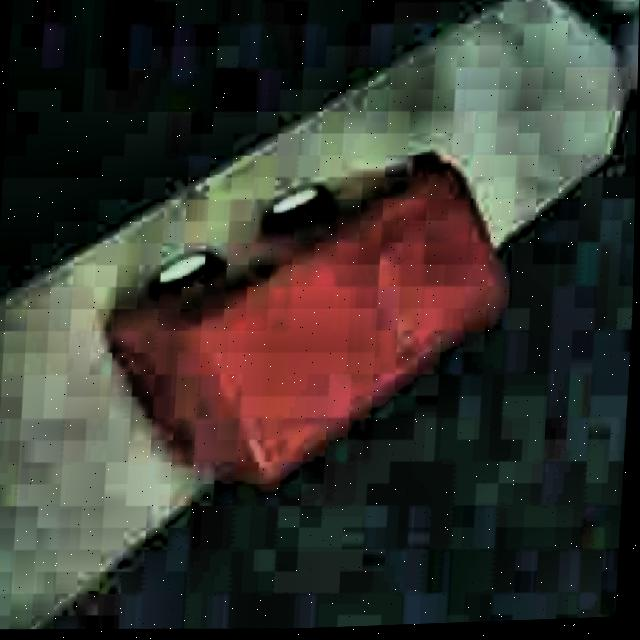bus: (94, 137, 517, 496)
